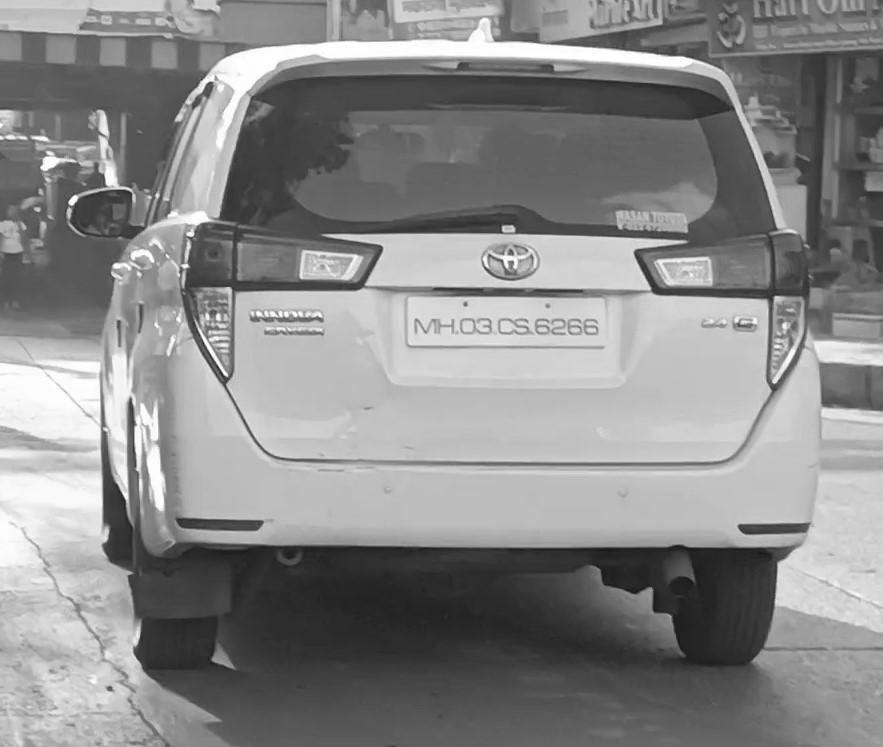number_plate: (409, 297, 602, 349)
